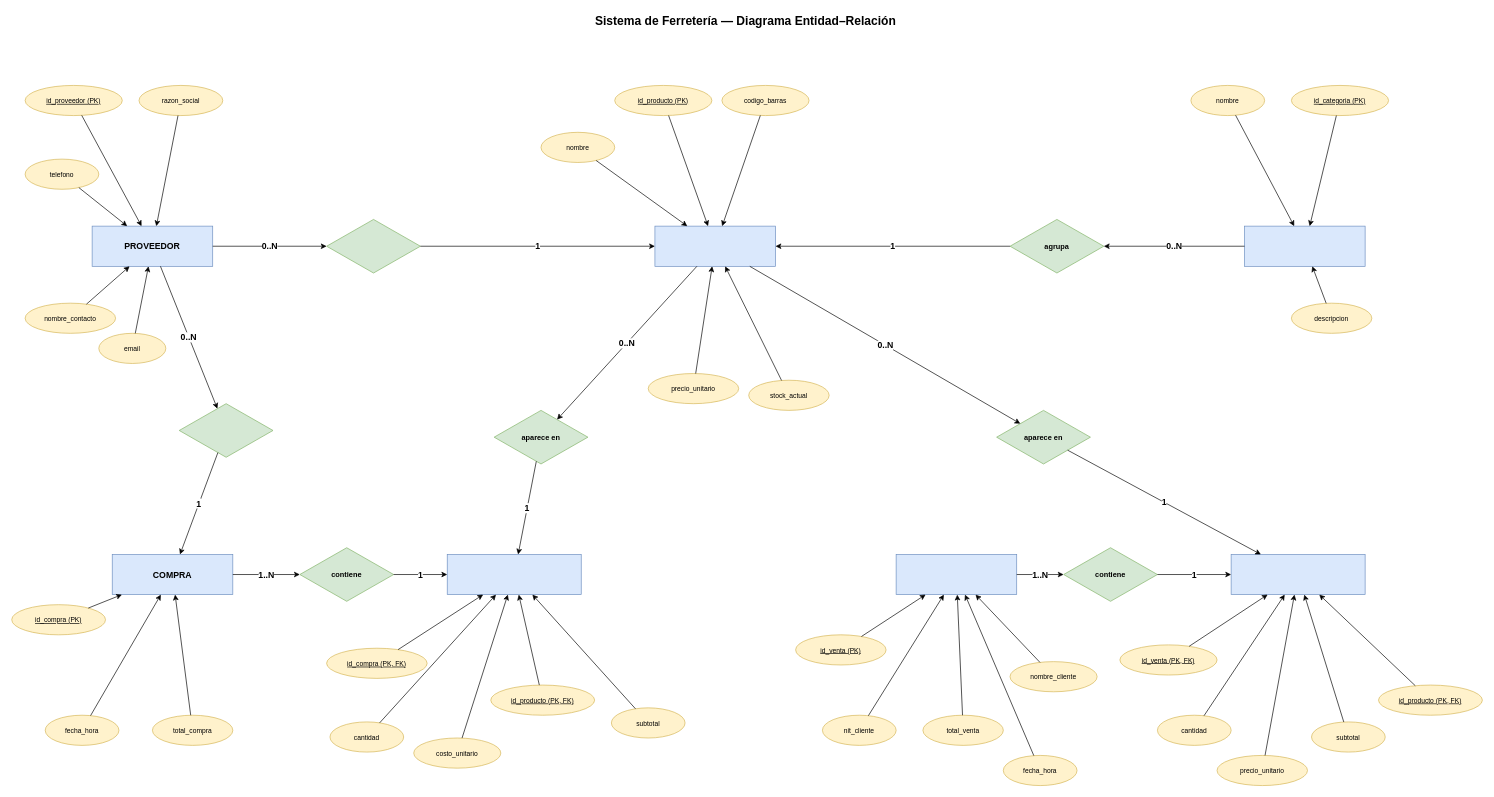
Image size: 1494x797. Some labels were removed from this diagram. The shapes that lost their labels are listed below. From the top down, each one's centre as x and y in pixels, then its label:
point 373,246: suministra
point 715,245: PRODUCTO
point 1304,245: CATEGORIA
point 226,430: abastece
point 514,574: DETALLE_COMPRA
point 956,574: VENTA
point 1297,574: DETALLE_VENTA
